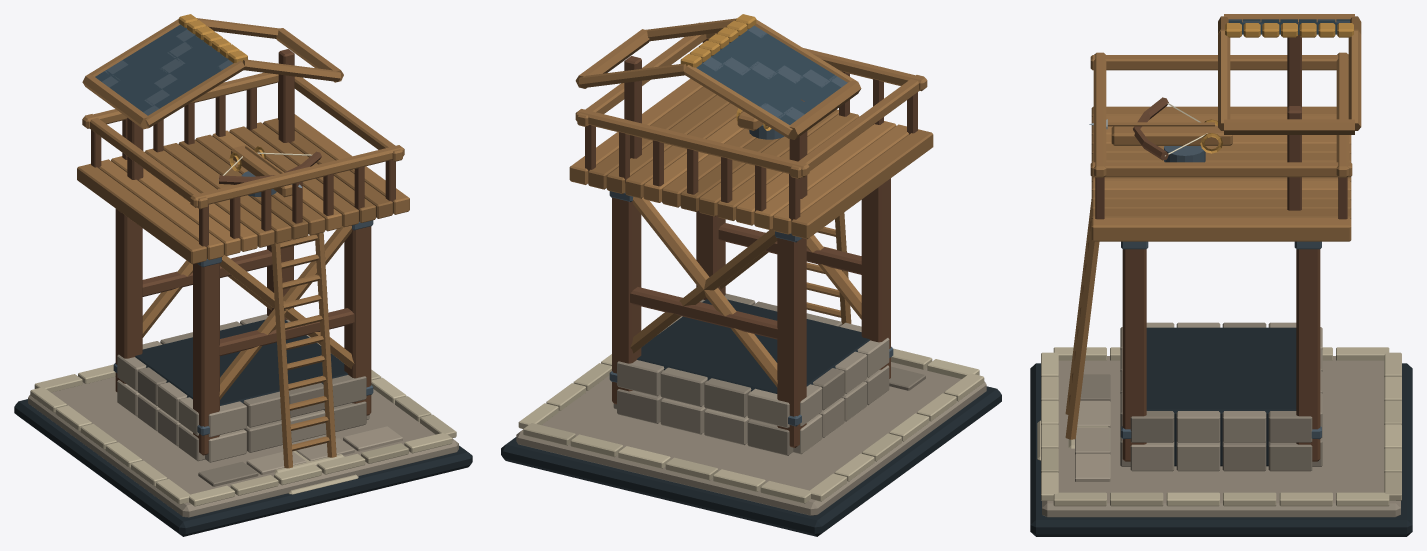
The model's file is archer__base__L01.glb.
3 views of the same model, side by side, from view 1: azimuth 30°, elevation 25°; view 2: azimuth 150°, elevation 25°; view 3: azimuth 270°, elevation 25° (orthographic). The views are drawn at different scales.
Visible parts, largest first — view 1: structure, weapon; view 2: structure, weapon; view 3: structure, weapon.
Boxes of the visible parts, left/top/right/bottom form: structure: left=14, top=14, right=472, bottom=536; weapon: left=218, top=145, right=321, bottom=197; structure: left=501, top=14, right=1001, bottom=536; weapon: left=736, top=108, right=784, bottom=139; structure: left=1030, top=14, right=1412, bottom=536; weapon: left=1089, top=97, right=1232, bottom=162.
Size of the model in its own units: 0.803 by 1 by 0.803.
